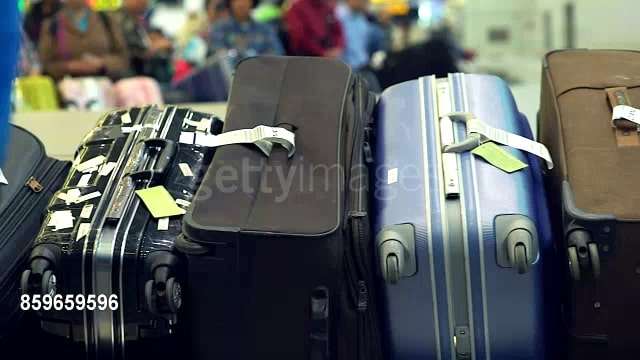baggage: (368, 68, 556, 357), (203, 52, 375, 360), (44, 105, 224, 351), (528, 45, 640, 360)
